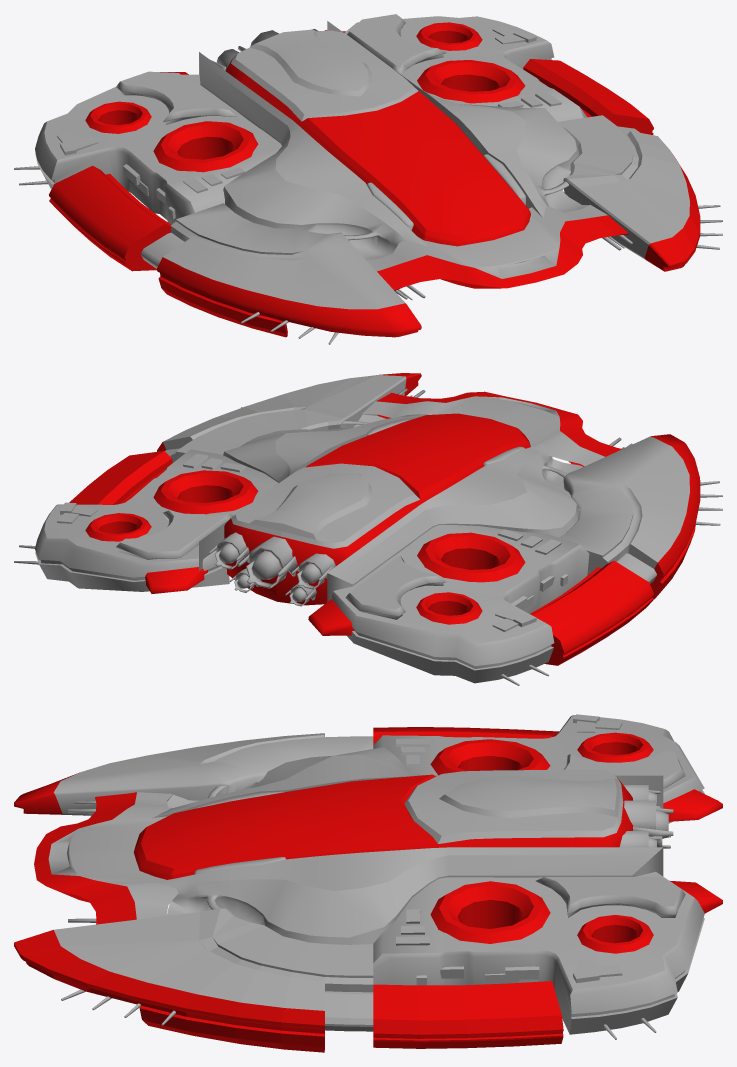
The model's file is Kenos6.fbx.
3 renders of one model, top to bottom at view 1: azimuth 30°, elevation 25°; view 2: azimuth 150°, elevation 25°; view 3: azimuth 270°, elevation 25°, orthographic. The views are drawn at different scales.
Visible parts, largest first — view 1: kenos6_diffuse, kenos6_color; view 2: kenos6_diffuse, kenos6_color; view 3: kenos6_diffuse, kenos6_color.
Boxes of the visible parts, box(x1,y1,x2,y2) form: kenos6_diffuse: box(14, 14, 722, 344); kenos6_color: box(49, 22, 700, 337); kenos6_diffuse: box(14, 375, 722, 685); kenos6_color: box(69, 373, 700, 665); kenos6_diffuse: box(48, 714, 704, 1039); kenos6_color: box(14, 727, 722, 1052).
Size of the model in its own units: 14.81 by 2.96 by 14.84.
